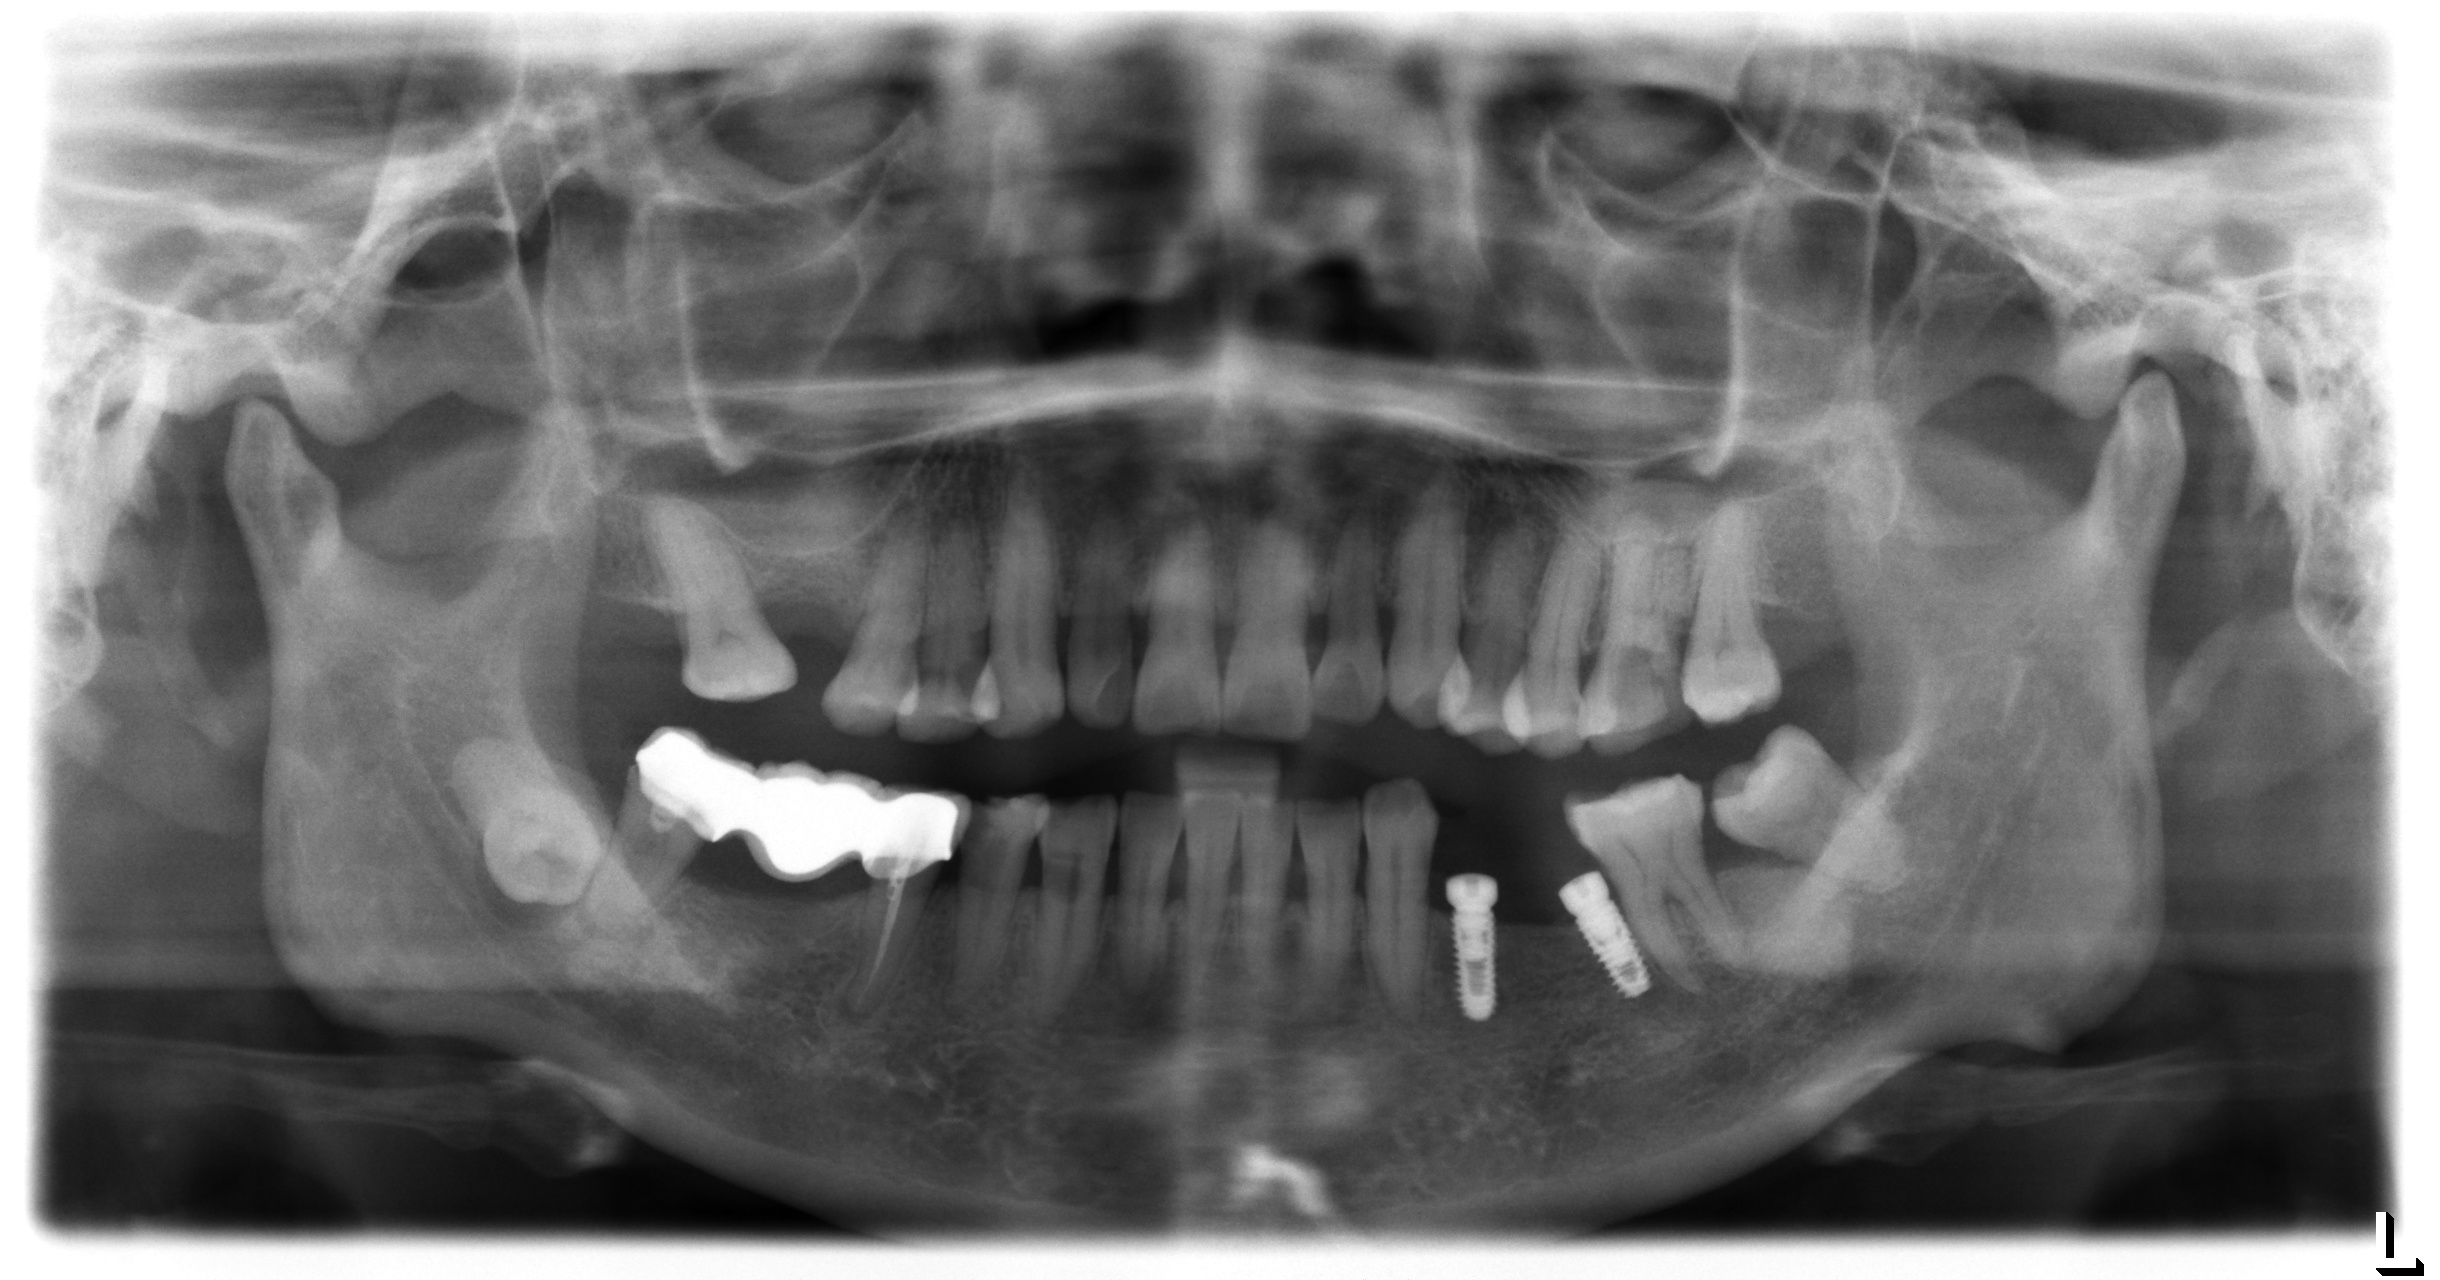Decay: (1601, 634, 1678, 731)
